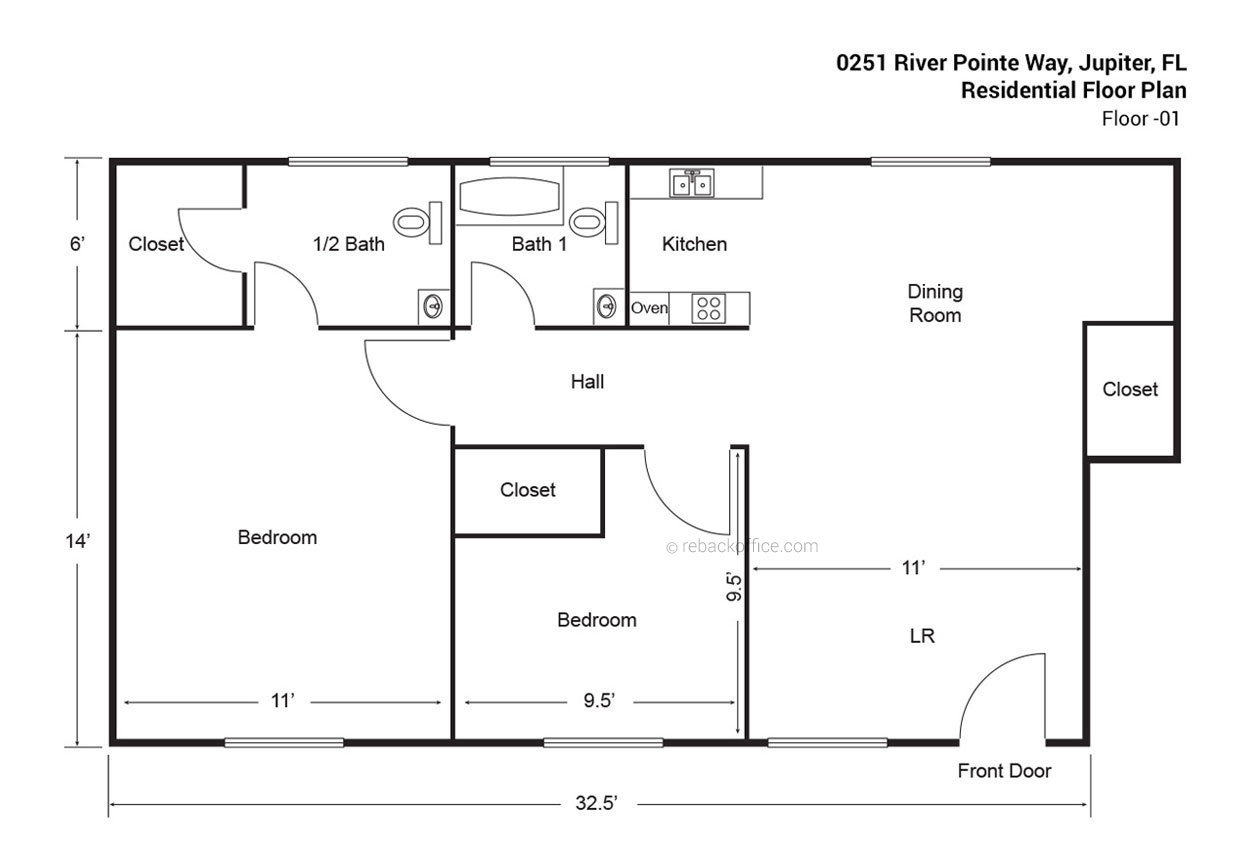door: (946, 640, 1061, 722), (622, 458, 737, 540), (359, 331, 443, 427), (171, 197, 230, 285), (461, 250, 528, 321), (246, 253, 313, 316)
room: (106, 311, 459, 757), (738, 418, 1093, 756), (447, 436, 755, 757), (240, 153, 458, 336), (619, 149, 777, 333), (107, 153, 257, 335)
window: (866, 145, 996, 180), (762, 727, 891, 756), (221, 728, 347, 756), (285, 146, 411, 174), (541, 726, 667, 754), (485, 144, 613, 171)
